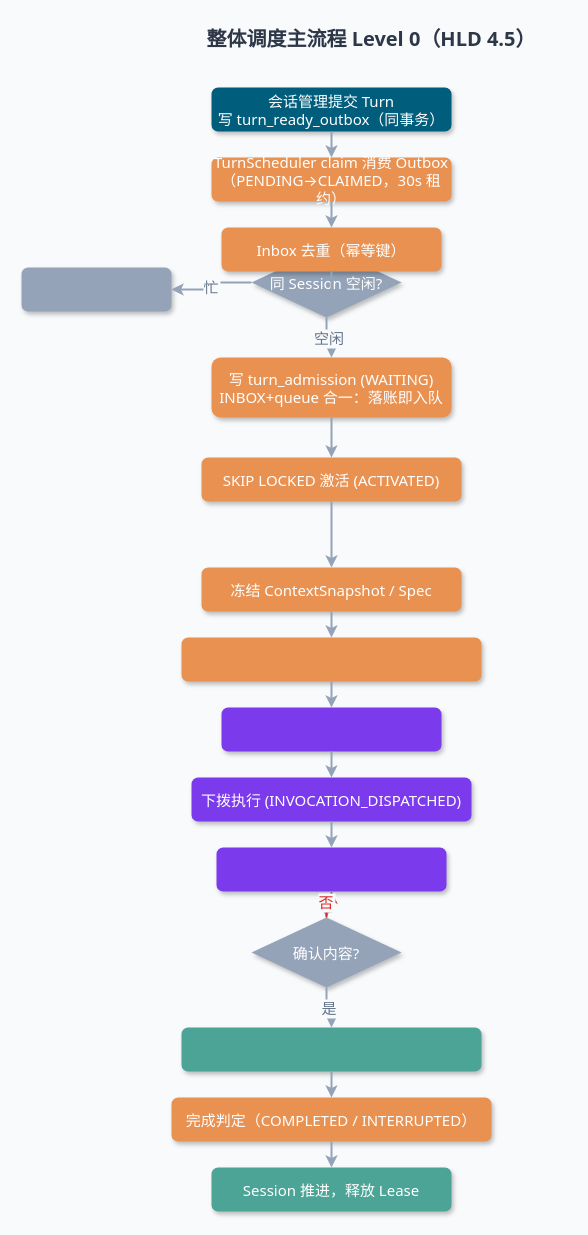
Image size: 588x1235. Some labels were removed from this diagram. Here are the shapes that lost their labels. From the top down, the centre of each, then its label:
At pixel 97 290: "等待 Lease 释放".
At pixel 332 660: "创建 runtime_invocation + 双层租约".
At pixel 332 730: "选择健康 Runtime".
At pixel 332 870: "Runtime 持续回报事件".
At pixel 332 1050: "幂等写 committed_content + Delta 流".
